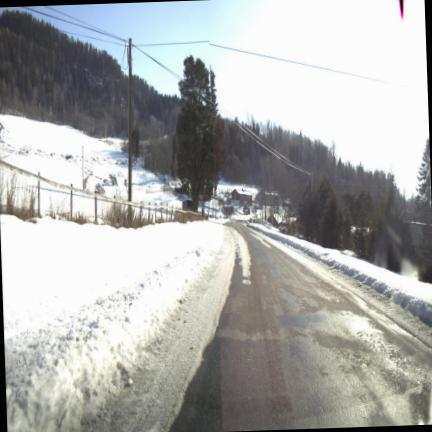Road: (171, 223, 431, 431)
